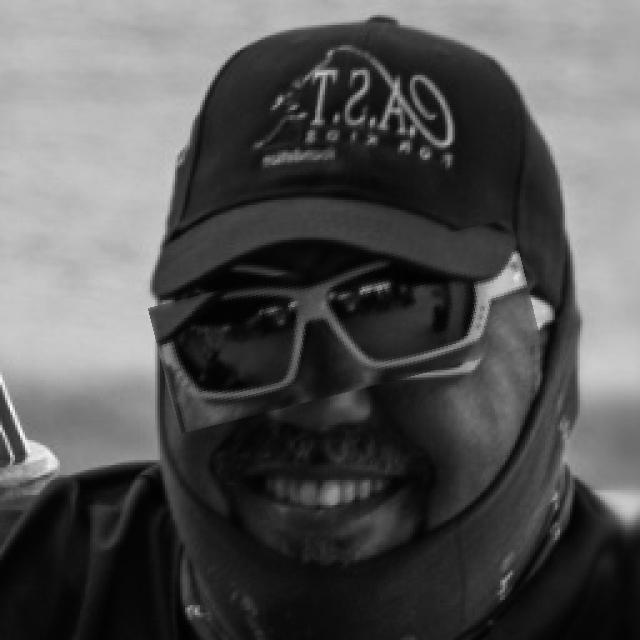glasses: (153, 240, 537, 412)
